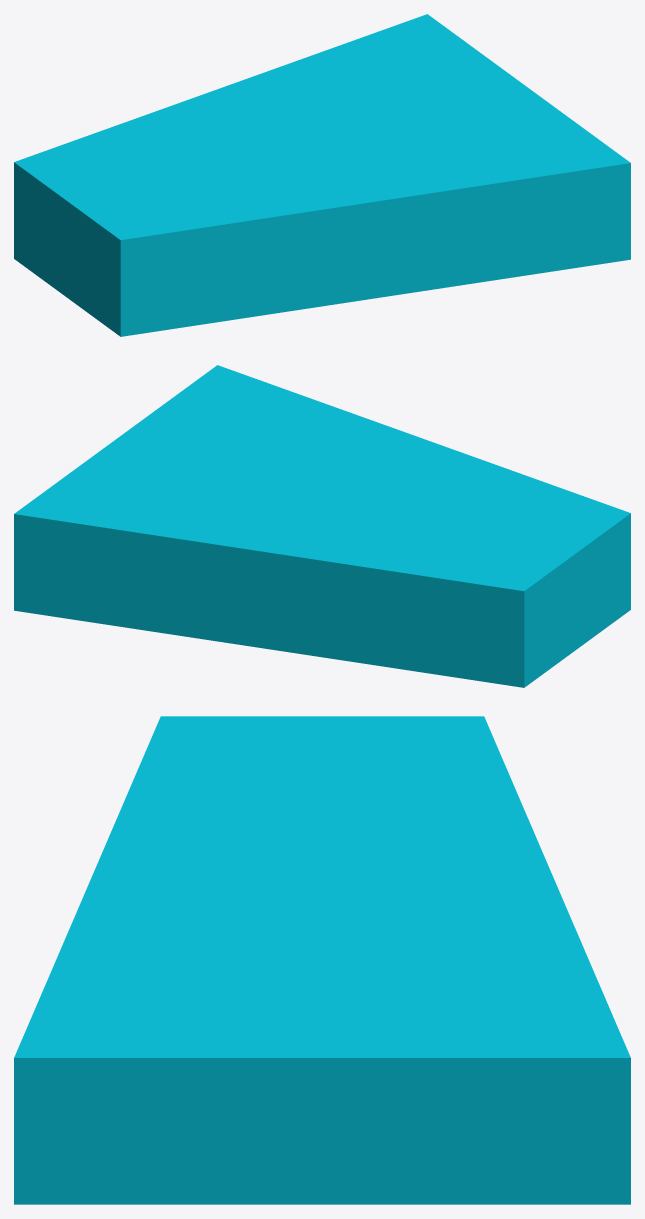
File: RunPart-V.fbx
3 renders of one model, top to bottom at view 1: azimuth 30°, elevation 25°; view 2: azimuth 150°, elevation 25°; view 3: azimuth 270°, elevation 25°, orthographic. The views are drawn at different scales.
Parts seen in each view (by area): view 1: RunPart - V; view 2: RunPart - V; view 3: RunPart - V.
Part boxes in pixels (<box>): RunPart - V: <box>14,14,630,336</box>; RunPart - V: <box>14,365,630,687</box>; RunPart - V: <box>14,716,630,1204</box>.
Bounding box in the file's own units: 1000 × 200 × 763.
